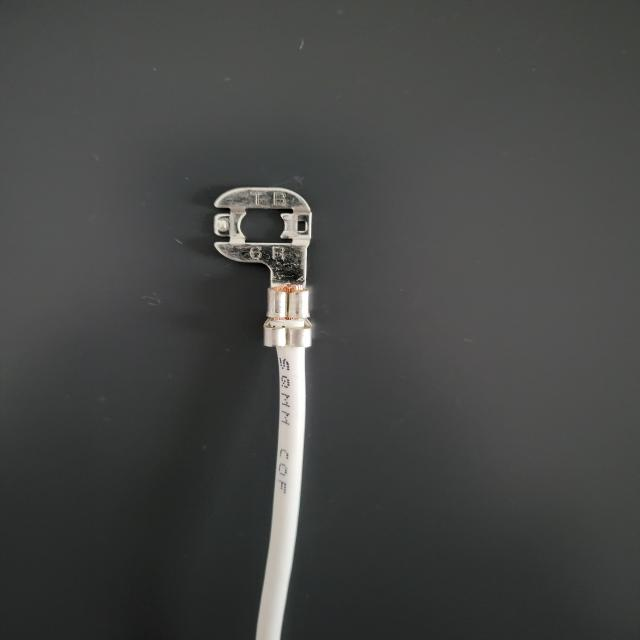good: (4, 1, 640, 638)
